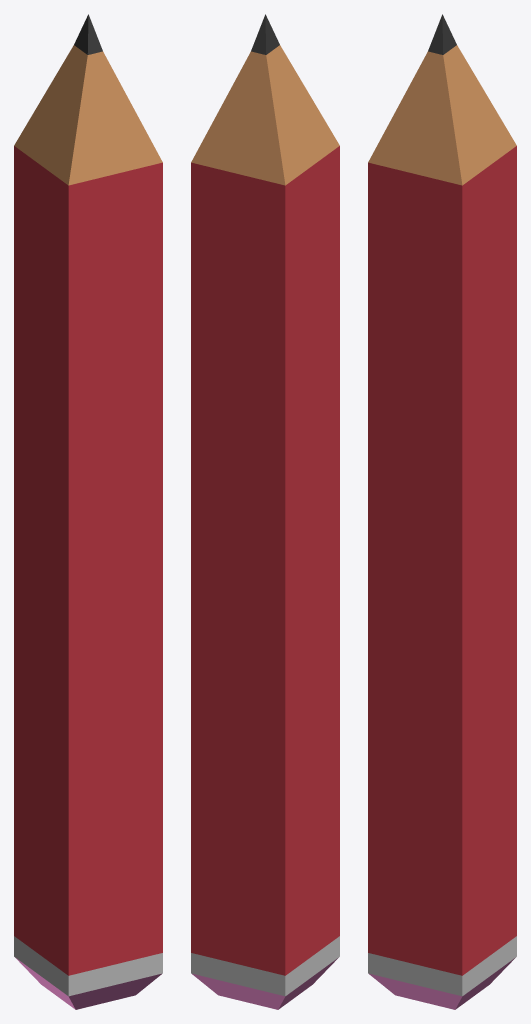
File: Pencil.fbx
3 renders of one model, left to right at view 1: azimuth 30°, elevation 25°; view 2: azimuth 150°, elevation 25°; view 3: azimuth 330°, elevation 25°, orthographic.
Parts seen in each view (by area): view 1: Cube; view 2: Cube; view 3: Cube.
Part boxes in pixels (left/top/right/bottom): Cube: left=14, top=14, right=162, bottom=1009; Cube: left=191, top=14, right=339, bottom=1009; Cube: left=368, top=14, right=516, bottom=1009.
Bounding box in the file's own units: 25 × 247 × 25.
